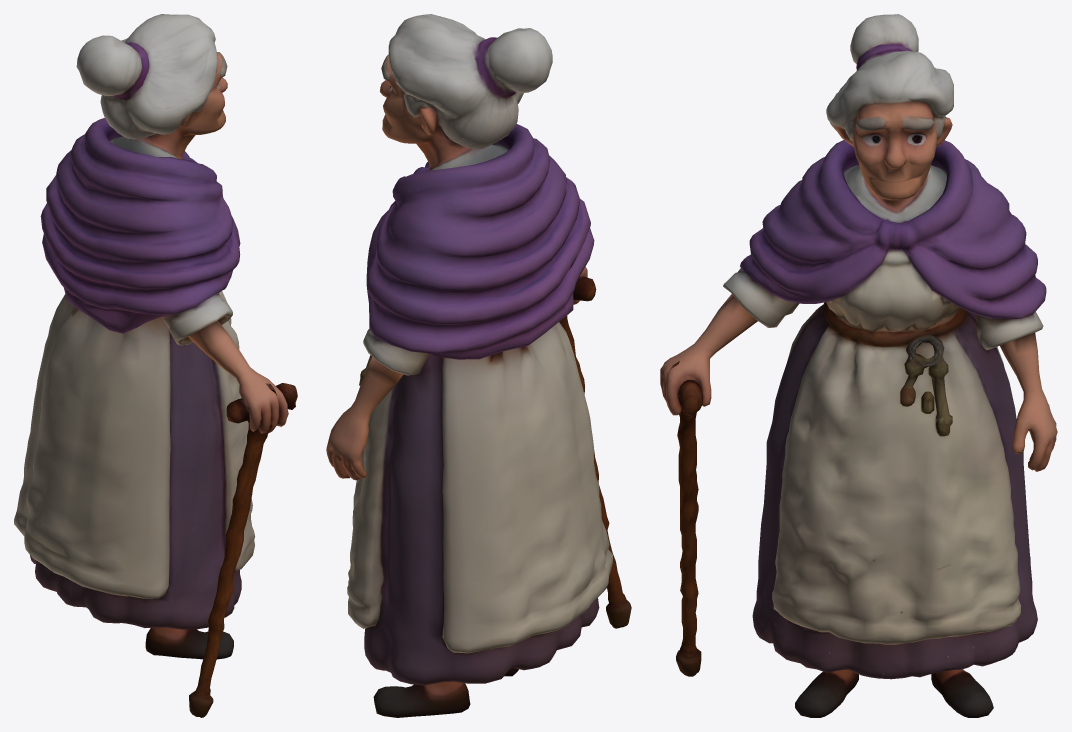
3 views of the same model, side by side, from view 1: azimuth 30°, elevation 25°; view 2: azimuth 150°, elevation 25°; view 3: azimuth 270°, elevation 25° (orthographic). The views are drawn at different scales.
Parts seen in each view (by area): view 1: tripo_node_0a62d7db-6518-4b80-bbbb-53e25be8460b; view 2: tripo_node_0a62d7db-6518-4b80-bbbb-53e25be8460b; view 3: tripo_node_0a62d7db-6518-4b80-bbbb-53e25be8460b.
Part boxes in pixels (x1=…): tripo_node_0a62d7db-6518-4b80-bbbb-53e25be8460b: x1=14, y1=14, x2=297, y2=717; tripo_node_0a62d7db-6518-4b80-bbbb-53e25be8460b: x1=326, y1=14, x2=631, y2=717; tripo_node_0a62d7db-6518-4b80-bbbb-53e25be8460b: x1=660, y1=14, x2=1057, y2=717.
Size of the model in its own units: 0.3288 by 1 by 0.5479.
1 material, 1 textured.
